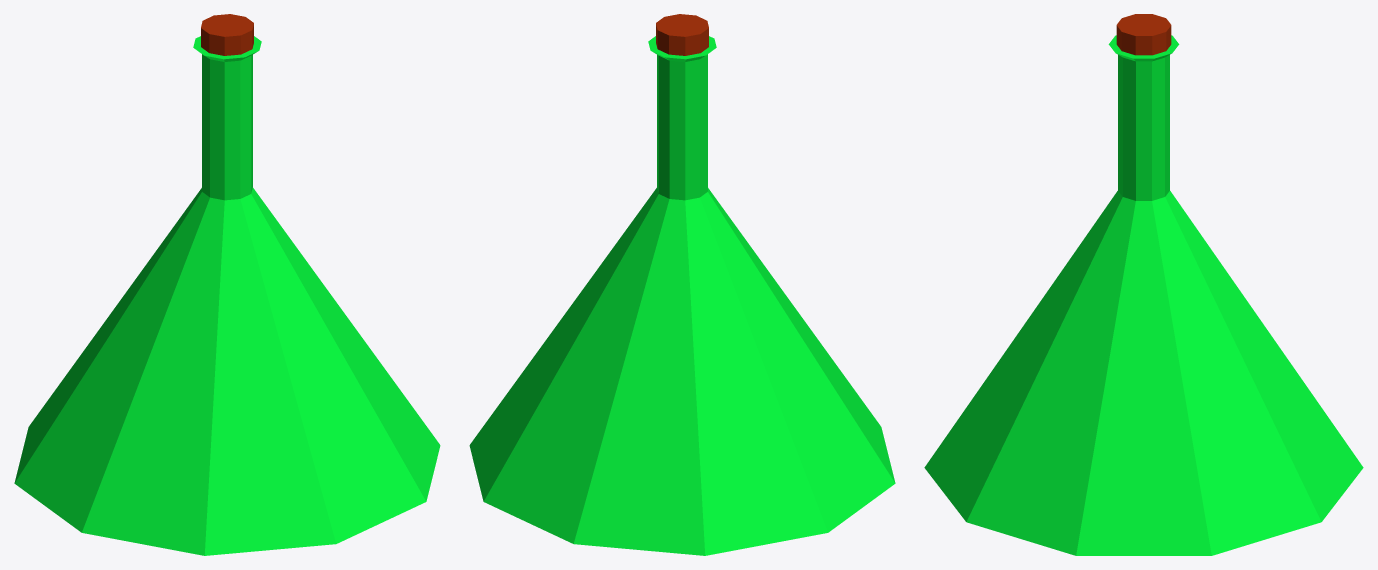
The model's file is Pocao3.fbx.
3 renders of one model, left to right at view 1: azimuth 30°, elevation 25°; view 2: azimuth 150°, elevation 25°; view 3: azimuth 270°, elevation 25°, orthographic.
Parts seen in each view (by area): view 1: Pocao3; view 2: Pocao3; view 3: Pocao3.
Boxes of the visible parts, x1=… form: Pocao3: x1=14, y1=14, x2=440, y2=555; Pocao3: x1=469, y1=14, x2=895, y2=555; Pocao3: x1=924, y1=14, x2=1363, y2=555.
Size of the model in its own units: 16.67 by 19.5 by 17.53.
